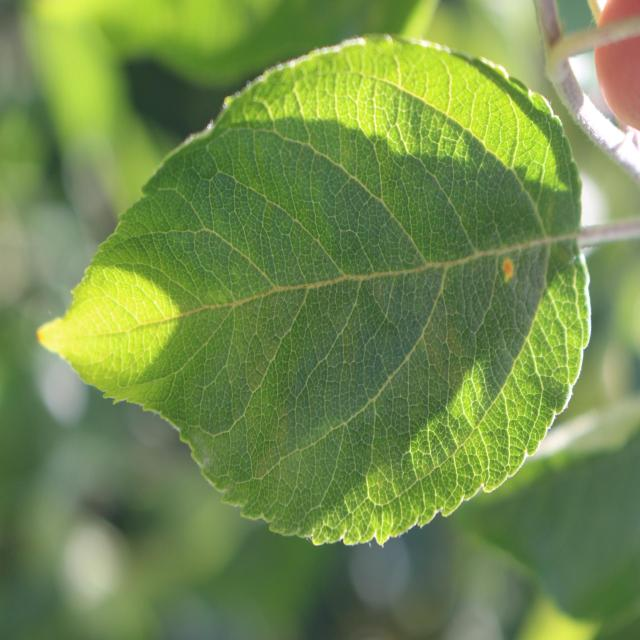Rust: (490, 241, 530, 291)
